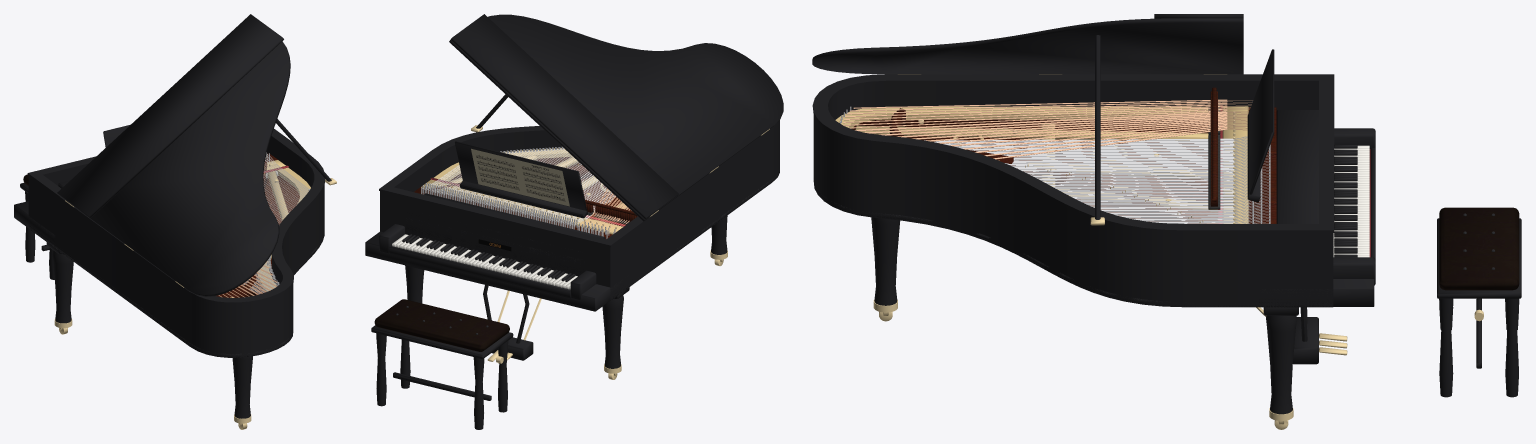
The model's file is piano.glb.
The picture shows the model from 3 angles, left to right: view 1: azimuth 30°, elevation 25°; view 2: azimuth 150°, elevation 25°; view 3: azimuth 270°, elevation 25°; orthographic projection. The views are drawn at different scales.
Parts seen in each view (by area): view 1: Piano lacquer, Steel string, Gold plate, Soundboard, Bridge maple, Copper string, Piano brass; view 2: Piano lacquer, Bench cushion, Sheet music, Steel string, Gold plate, Tuning pin, White keys, Black keys, Piano brass, Bridge maple, Copper string, Soundboard (+1 smaller); view 3: Piano lacquer, Steel string, Copper string, Gold plate, Bench cushion, Bridge maple, Soundboard, Black keys, White keys, Piano brass, Action wood.
Boxes of the visible parts, bbox=[...] form: Piano lacquer: bbox=[14, 14, 331, 418]; Steel string: bbox=[242, 154, 308, 294]; Gold plate: bbox=[230, 160, 310, 297]; Soundboard: bbox=[233, 176, 299, 295]; Bridge maple: bbox=[216, 153, 277, 297]; Copper string: bbox=[218, 261, 277, 297]; Piano brass: bbox=[54, 156, 336, 429]; Piano lacquer: bbox=[365, 14, 783, 429]; Bench cushion: bbox=[374, 299, 509, 351]; Sheet music: bbox=[471, 148, 569, 206]; Steel string: bbox=[422, 148, 615, 225]; Gold plate: bbox=[421, 148, 627, 234]; Tuning pin: bbox=[421, 147, 615, 238]; White keys: bbox=[392, 234, 577, 289]; Black keys: bbox=[402, 234, 575, 281]; Piano brass: bbox=[438, 125, 769, 379]; Bridge maple: bbox=[414, 157, 612, 238]; Copper string: bbox=[579, 188, 631, 233]; Soundboard: bbox=[449, 160, 630, 226]; Piano lacquer: bbox=[812, 14, 1521, 414]; Steel string: bbox=[924, 136, 1268, 223]; Copper string: bbox=[843, 99, 1252, 159]; Gold plate: bbox=[835, 106, 1248, 223]; Bench cushion: bbox=[1439, 207, 1519, 290]; Bridge maple: bbox=[853, 107, 1276, 223]; Soundboard: bbox=[851, 123, 1217, 223]; Black keys: bbox=[1334, 145, 1357, 257]; White keys: bbox=[1333, 145, 1369, 257]; Piano brass: bbox=[873, 74, 1483, 429]; Action wood: bbox=[1210, 87, 1217, 206].
Bounding box in the file's own units: 1.59 × 1.87 × 3.01.
18 materials, 6 textured.
